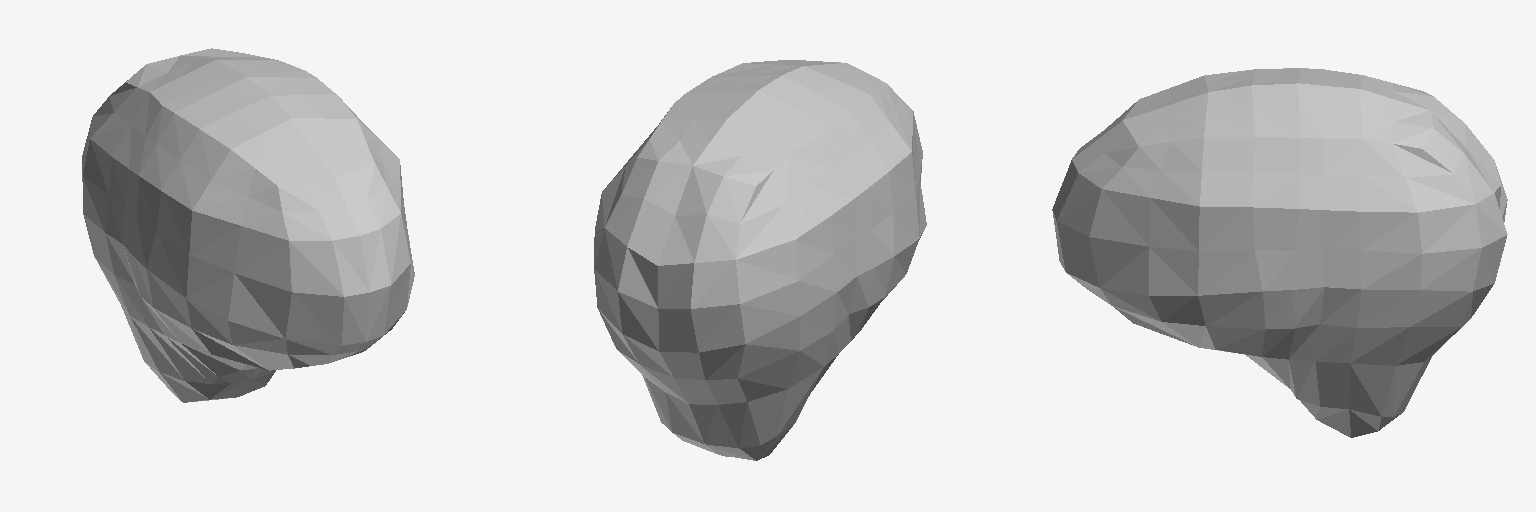
Rendered from ING_Brain_v03.obj.
3 renders of one model, left to right at view 1: azimuth 30°, elevation 25°; view 2: azimuth 150°, elevation 25°; view 3: azimuth 270°, elevation 25°, orthographic.
Parts seen in each view (by area): view 1: Brain; view 2: Brain; view 3: Brain.
Part boxes in pixels (bbox=[...]): Brain: bbox=[82, 48, 414, 402]; Brain: bbox=[594, 60, 926, 460]; Brain: bbox=[1052, 68, 1507, 437].
Bounding box in the file's own units: 19.8 × 27.68 × 33.1.